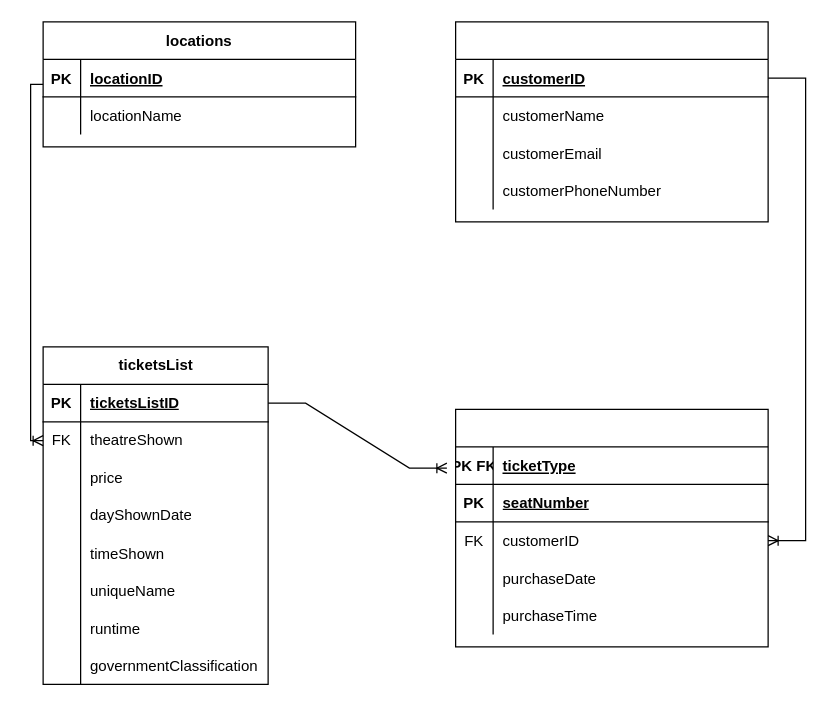
The diagram is 838 pixels wide and 706 high, and some of its shapes have lost their labels. Each missing label, with the box of its shape:
customers: (454, 21, 768, 222)
customersTickets: (454, 408, 768, 647)
